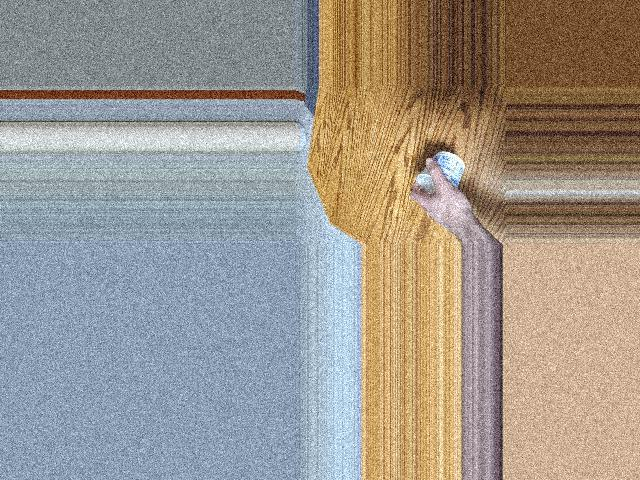cotage: (416, 156, 470, 201)
